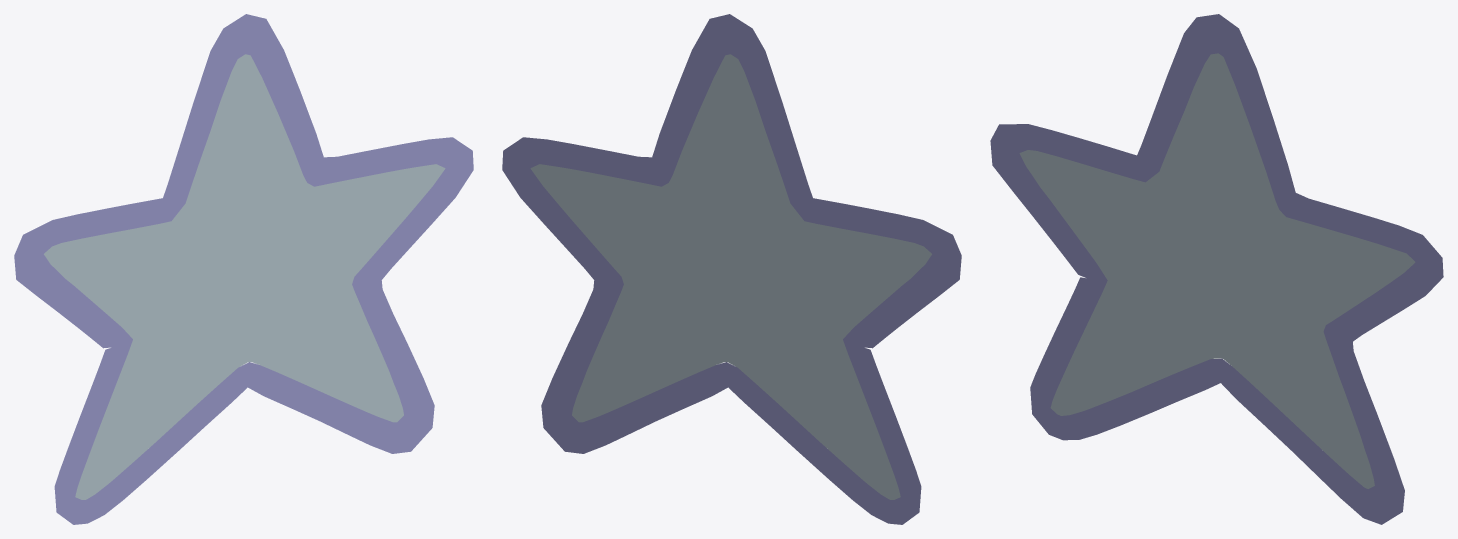
File: star1.fbx
The picture shows the model from 3 angles, left to right: view 1: azimuth 30°, elevation 25°; view 2: azimuth 150°, elevation 25°; view 3: azimuth 330°, elevation 25°; orthographic projection.
Parts seen in each view (by area): view 1: star1; view 2: star1; view 3: star1.
Part boxes in pixels (x1,y1,x2,y2): star1: (14,14,473,524); star1: (502,14,961,524); star1: (990,14,1443,524).
Bounding box in the file's own units: 0.8512 × 0.8459 × 3.31e-25.
